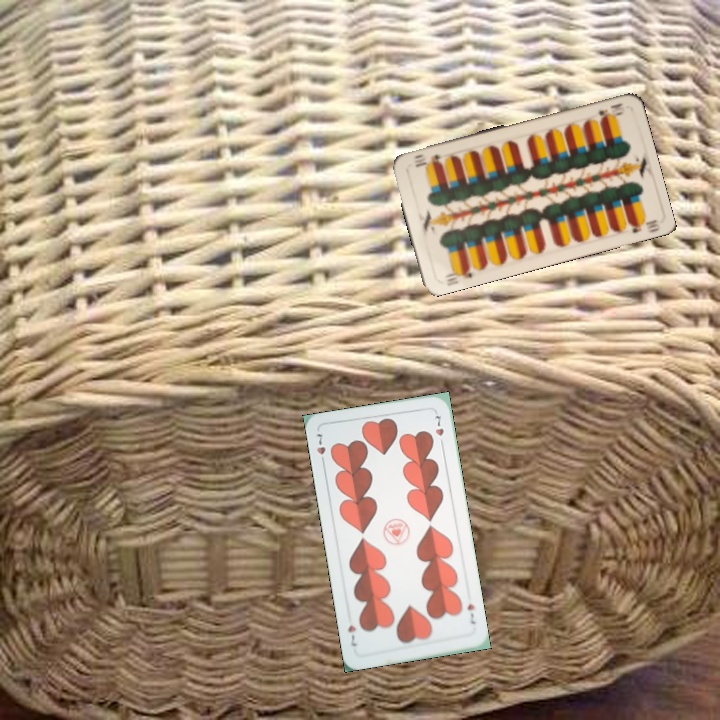E10: (440, 262, 475, 289), (595, 99, 626, 122)
H7: (311, 430, 328, 468), (463, 600, 478, 627)
